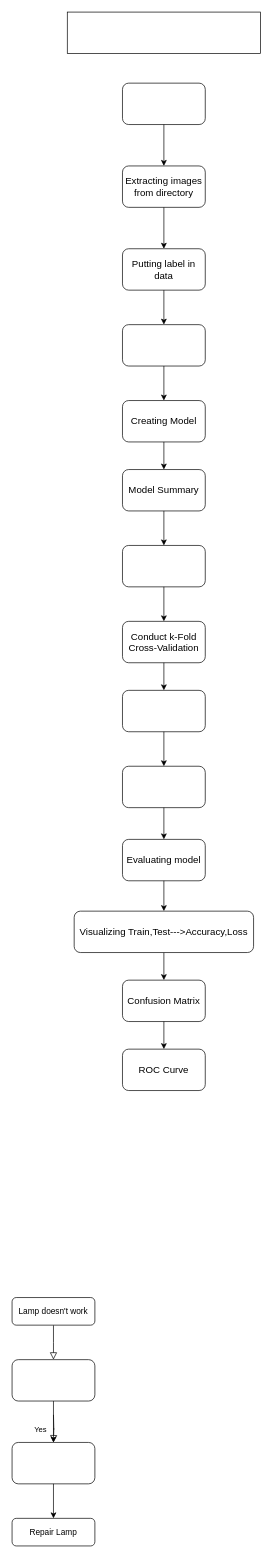
This 273x1558 diagram has some shape labels left out. The shapes that lost their labels are listed below. From the top down, each one's box as (x1, y1, x2, y2) in pixels, then its label:
(67, 11, 260, 53): Human Emotion Detection by using CNN
(122, 82, 205, 125): Import necessary libraries
(122, 324, 205, 366): Splitting train test
(122, 545, 205, 587): Model Visualization
(122, 690, 205, 732): Training Model
(122, 766, 205, 808): Taking model with lowest Loss
